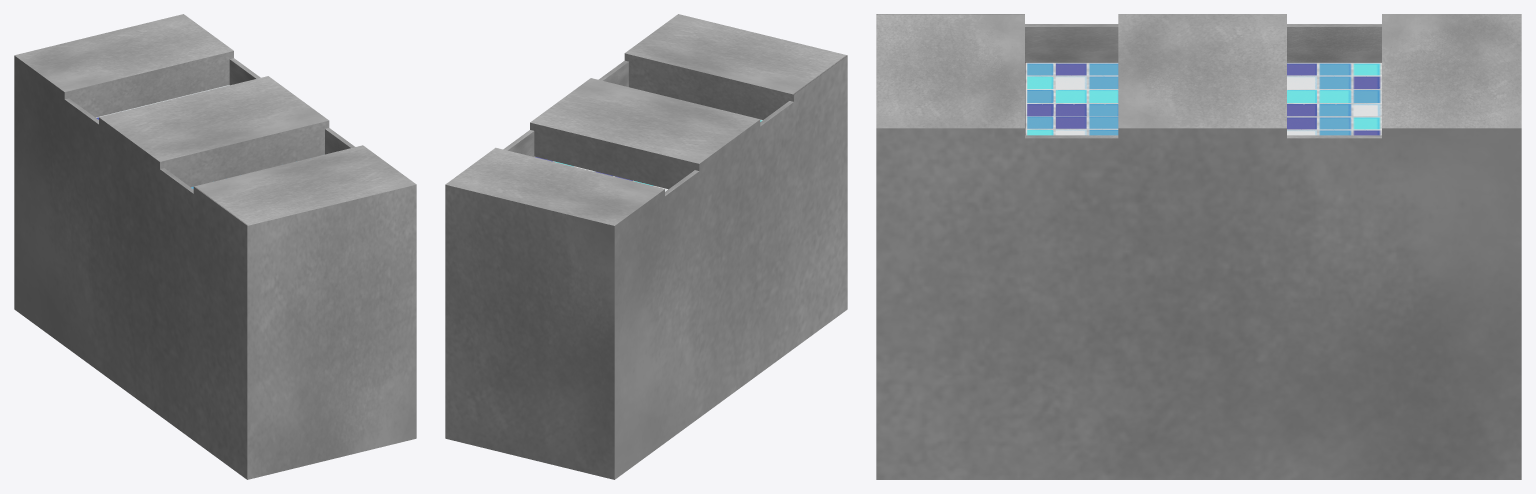
Rendered from piscina.fbx.
The picture shows the model from 3 angles, left to right: view 1: azimuth 30°, elevation 25°; view 2: azimuth 150°, elevation 25°; view 3: azimuth 270°, elevation 25°; orthographic projection. The views are drawn at different scales.
Parts seen in each view (by area): view 1: piscina; view 2: piscina; view 3: piscina.
Boxes of the visible parts, x1=… form: piscina: x1=14, y1=14, x2=416, y2=479; piscina: x1=445, y1=14, x2=847, y2=479; piscina: x1=876, y1=14, x2=1521, y2=479.
Bounding box in the file's own units: 2922 × 4187 × 6964.
1 material, 1 textured.
